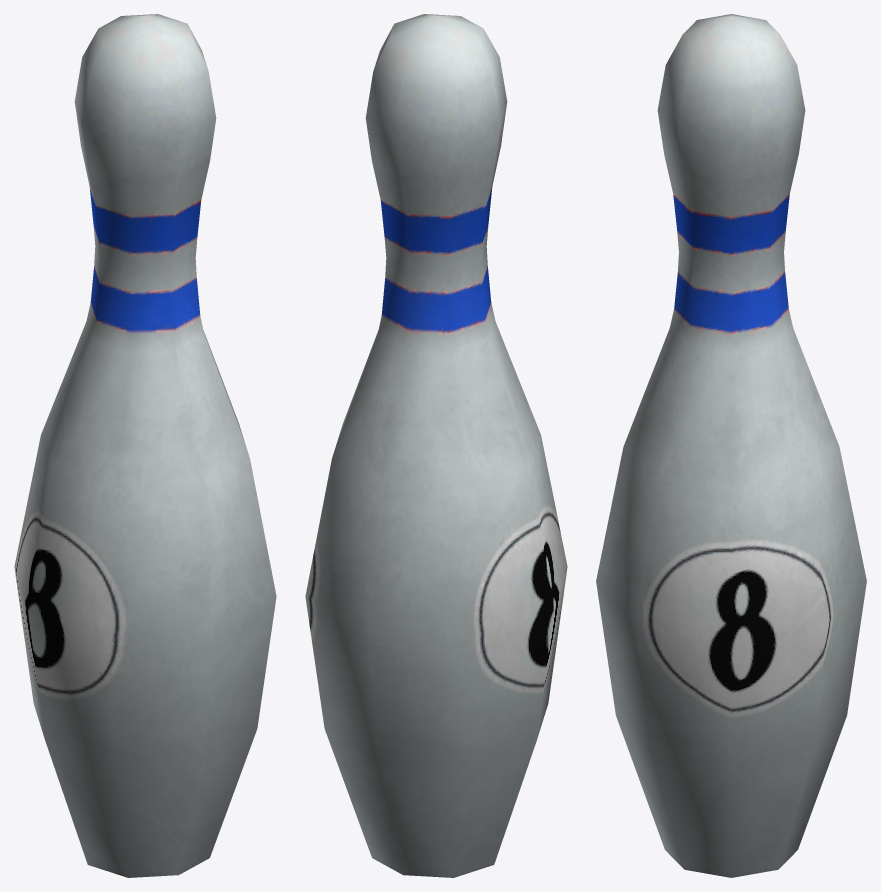
File: pin bowling1.FBX
The picture shows the model from 3 angles, left to right: view 1: azimuth 30°, elevation 25°; view 2: azimuth 150°, elevation 25°; view 3: azimuth 270°, elevation 25°; orthographic projection.
Visible parts, largest first — view 1: M_PinBowling_01; view 2: M_PinBowling_01; view 3: M_PinBowling_01.
Part boxes in pixels (<box>): M_PinBowling_01: <box>14,14,276,877</box>; M_PinBowling_01: <box>305,14,567,877</box>; M_PinBowling_01: <box>596,14,866,877</box>.
Size of the model in its own units: 9.77 by 33.15 by 9.77.
